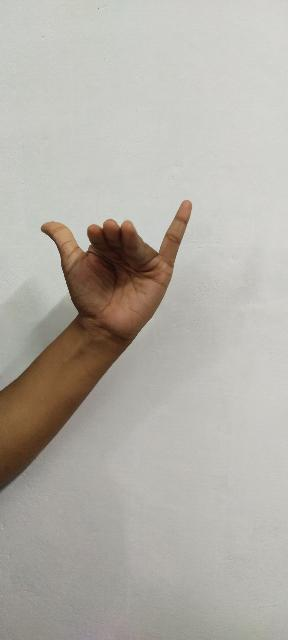mrighasheesh: (18, 190, 214, 340)
